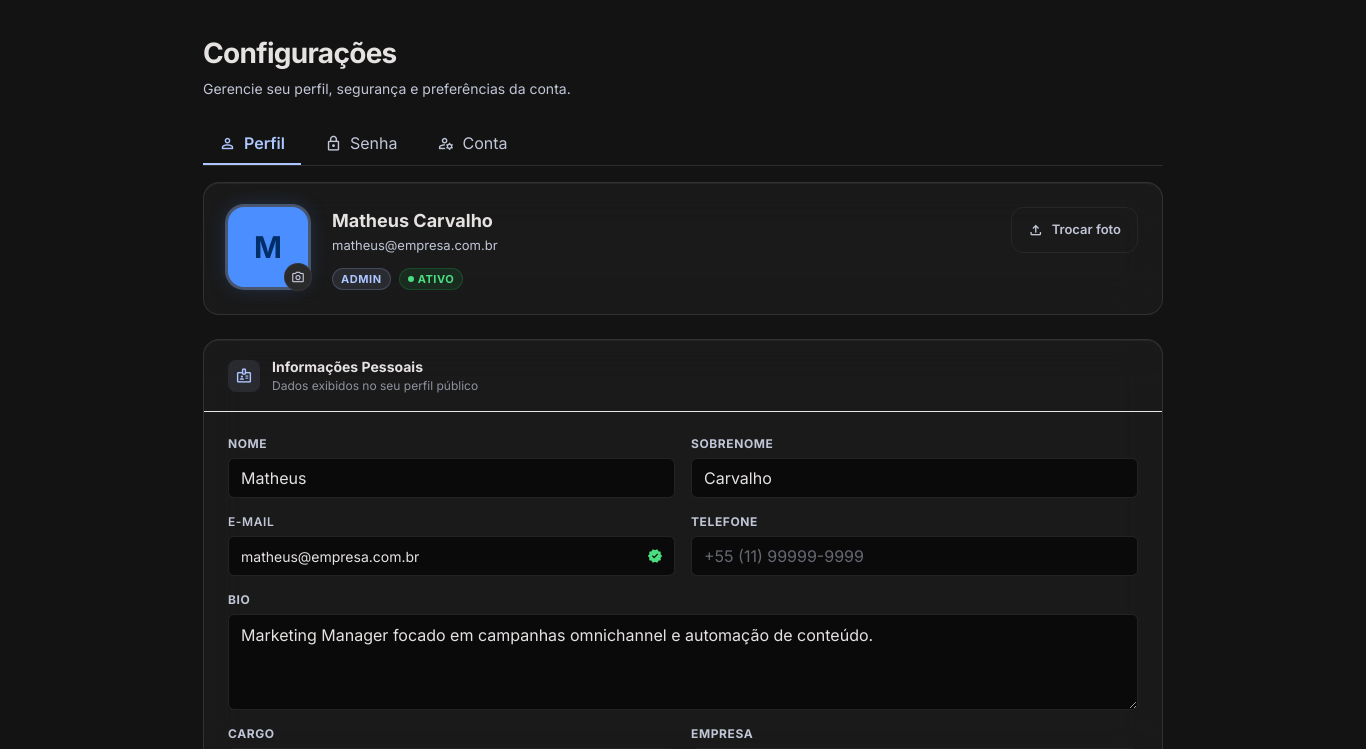
Test case: UserSettingsPage › shows danger zone in account tab
Click the tab "Conta" at (472, 144), box [422,123,524,165]
(page scrolled)
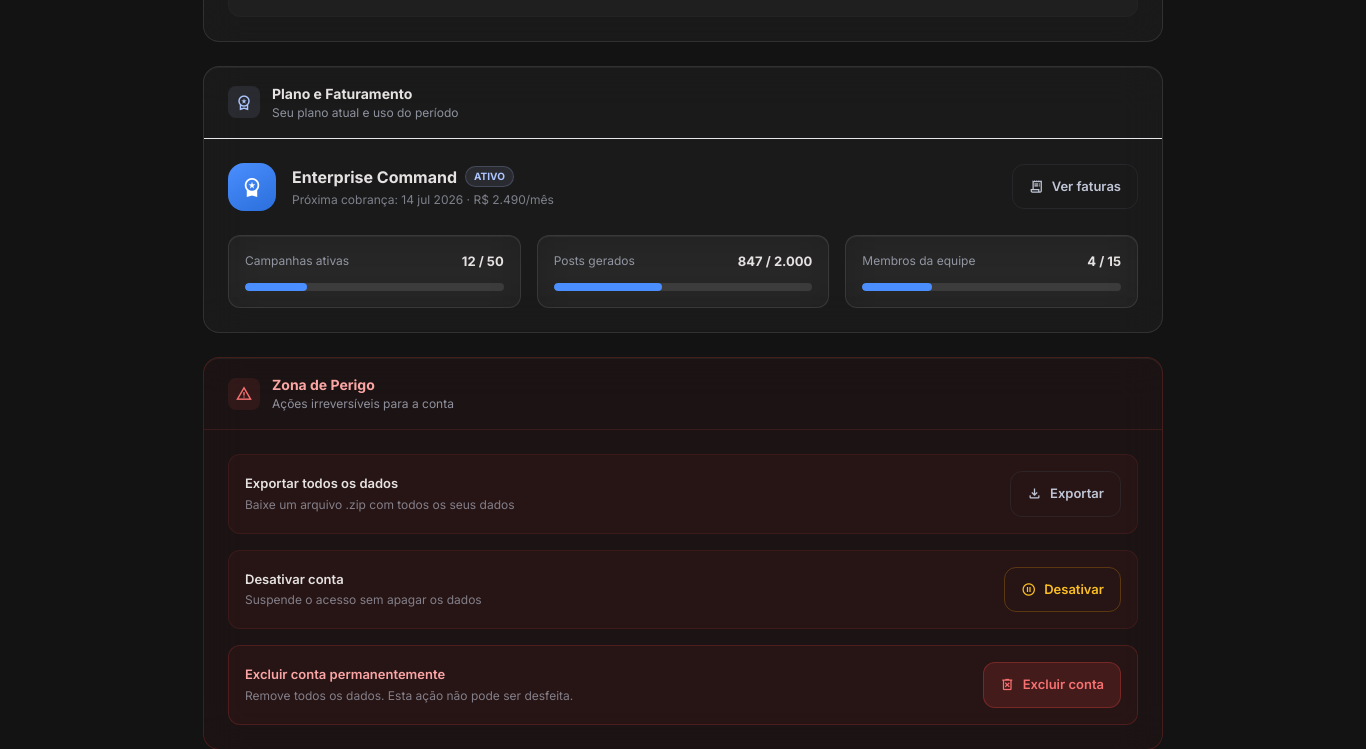
expect the heading "Zona de Perigo" is shown: met, box [272,376,375,393]
